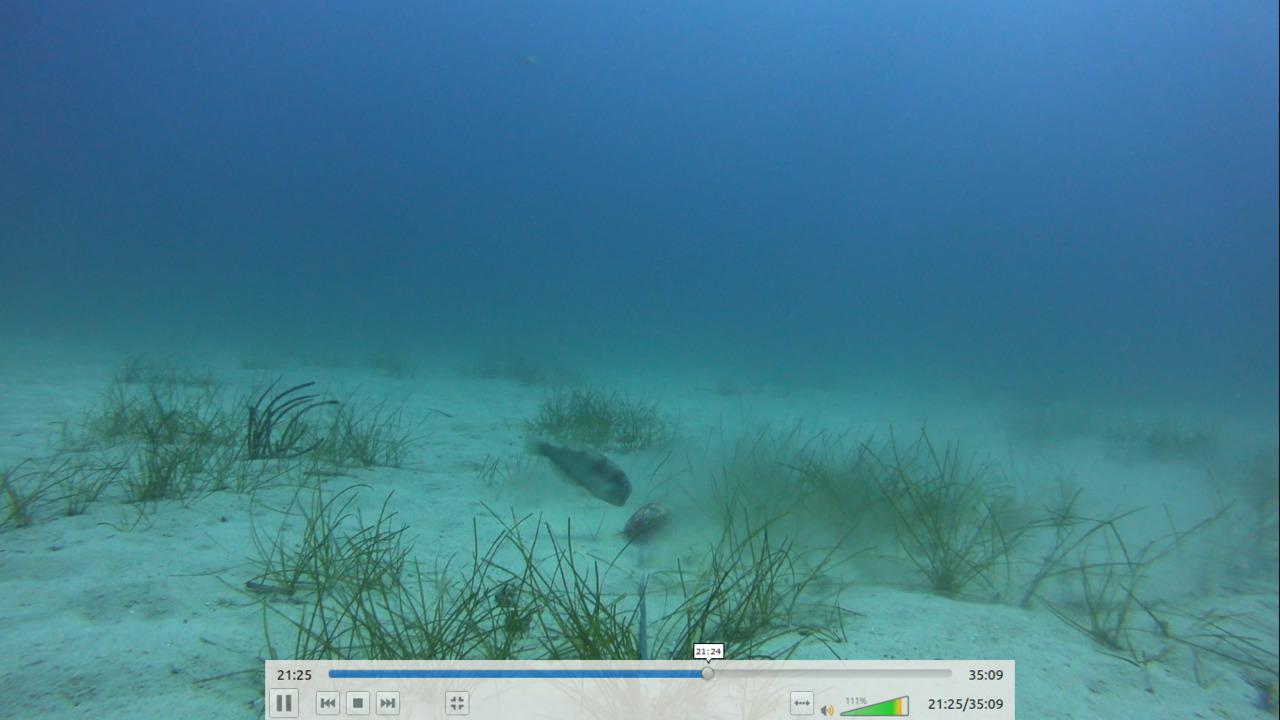raor: (515, 432, 632, 503)
